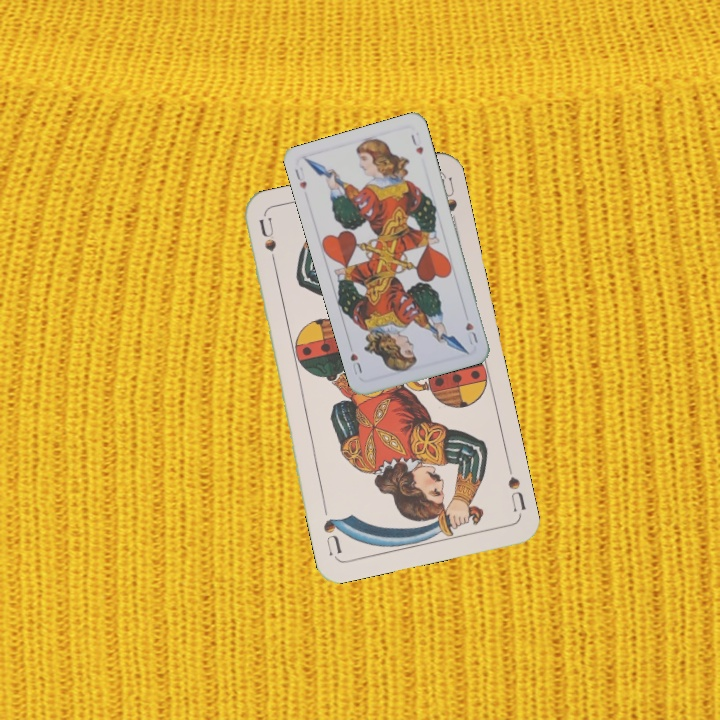HU: (461, 318, 480, 348), (290, 163, 309, 192)
SU: (254, 214, 280, 274), (504, 472, 529, 514)
